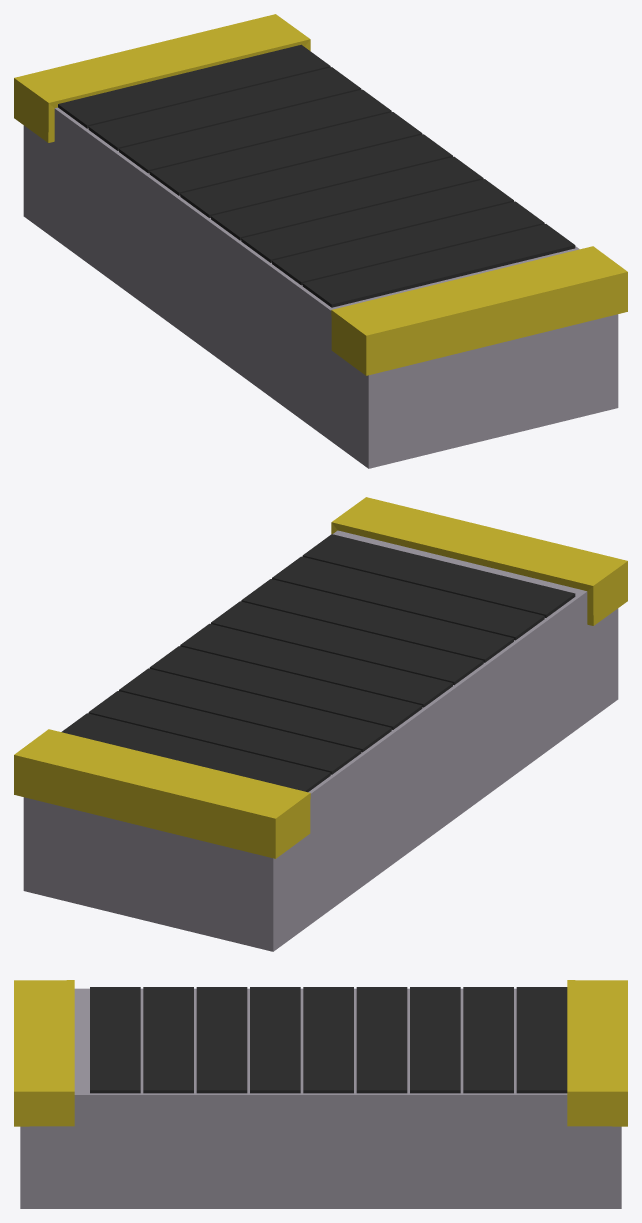
Rendered from SimpleConveyor.glb.
3 renders of one model, top to bottom at view 1: azimuth 30°, elevation 25°; view 2: azimuth 150°, elevation 25°; view 3: azimuth 270°, elevation 25°, orthographic. The views are drawn at different scales.
Parts seen in each view (by area): view 1: Cover, Plane; view 2: Cover, Plane; view 3: Cover, Plane.
Part boxes in pixels (box(x1,y1,x2,y2)): Cover: box(14, 14, 627, 468); Plane: box(58, 44, 575, 307); Cover: box(14, 497, 627, 951); Plane: box(61, 534, 575, 792); Cover: box(14, 980, 627, 1208); Plane: box(90, 987, 567, 1093).
Bounding box in the file's own units: 4.19 × 2.11 × 9.77.
